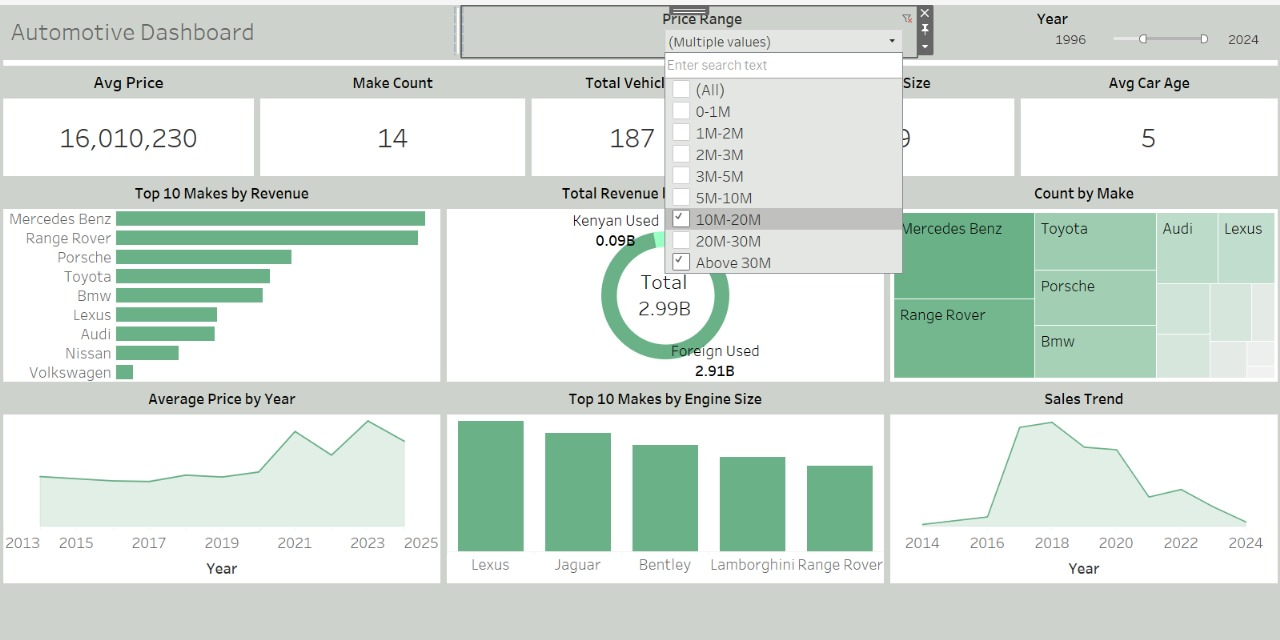

The dashboard page shown, as its layout file describes it:
{"tool":"tableau","page":{"name":"Dashboard","canvas":[1600,800],"ordinal":0},"visuals":[{"type":"text","box":[0,0,567.5,65]},{"type":"blank","box":[567.5,0,10,65]},{"type":"filter","title":"Top 10 Makes by Revenue","param":"[federated.19sfm5003uep7b13yt24r1xoxb0n].[none:Price_Range:nk]","box":[577.5,0,567.5,65]},{"type":"filter","title":"Top 10 Makes by Revenue","param":"[federated.19sfm5003uep7b13yt24r1xoxb0n].[none:Year:qk]","box":[1145,0,455,65]},{"type":"blank","box":[0,65,1600,15]},{"type":"text","box":[0,80,321,33]},{"type":"text","box":[321,80,339,33]},{"type":"text","box":[660,80,261,33]},{"type":"text","box":[921,80,350,33]},{"type":"text","box":[1271,80,329,33]},{"type":"worksheet","title":"Avg Price","mark":"Automatic","box":[0,113,321,105]},{"type":"worksheet","title":"Makes Count","mark":"Automatic","box":[321,113,339,105]},{"type":"worksheet","title":"Total Vehicles","mark":"Automatic","box":[660,113,261,105]},{"type":"worksheet","title":"Avg Engine Size","mark":"Automatic","box":[921,113,350,105]},{"type":"worksheet","title":"Avg Car Age","mark":"Automatic","box":[1271,113,329,105]},{"type":"text","box":[0,218,554,33]},{"type":"text","box":[554,218,554,33]},{"type":"text","box":[1108,218,492,33]},{"type":"worksheet","title":"Top 10 Makes by Revenue","mark":"Automatic","rows":["Make"],"cols":["Price"],"box":[0,251,554,224]},{"type":"worksheet","title":"Total Revenue by Usage Origin","mark":"Pie","cols":["Calculation_783907814217064450","Calculation_783907814217064450"],"box":[554,251,554,224]},{"type":"worksheet","title":"Count by Make","mark":"Automatic","box":[1108,251,492,224]},{"type":"text","box":[0,475,554,33]},{"type":"text","box":[554,475,554,33]},{"type":"text","box":[1108,475,492,33]},{"type":"worksheet","title":"Average Price by year","mark":"Automatic","rows":["Price"],"cols":["Year","Year"],"box":[0,508,554,215]},{"type":"worksheet","title":"Top 10 Makes by Avg Engine Size","mark":"Automatic","rows":["Engine_Size"],"cols":["Make"],"box":[554,508,554,215]},{"type":"worksheet","title":"Sales Trend","mark":"Automatic","rows":["Name"],"cols":["Year","Year"],"box":[1108,508,492,215]}]}

Visuals, with their boxes in screenshot pixels (x1, y1, x2, y2), scaled from the page's 1600x800 canvas onto the 1280x640 screenshot:
text: <box>0,0,454,52</box>
blank: <box>454,0,462,52</box>
"Top 10 Makes by Revenue" filter: <box>462,0,916,52</box>
"Top 10 Makes by Revenue" filter: <box>916,0,1279,52</box>
blank: <box>0,52,1279,64</box>
text: <box>0,64,257,90</box>
text: <box>257,64,528,90</box>
text: <box>528,64,737,90</box>
text: <box>737,64,1017,90</box>
text: <box>1017,64,1279,90</box>
"Avg Price" worksheet: <box>0,90,257,174</box>
"Makes Count" worksheet: <box>257,90,528,174</box>
"Total Vehicles" worksheet: <box>528,90,737,174</box>
"Avg Engine Size" worksheet: <box>737,90,1017,174</box>
"Avg Car Age" worksheet: <box>1017,90,1279,174</box>
text: <box>0,174,443,201</box>
text: <box>443,174,886,201</box>
text: <box>886,174,1279,201</box>
"Top 10 Makes by Revenue" worksheet: <box>0,201,443,380</box>
"Total Revenue by Usage Origin" worksheet (Pie marks): <box>443,201,886,380</box>
"Count by Make" worksheet: <box>886,201,1279,380</box>
text: <box>0,380,443,406</box>
text: <box>443,380,886,406</box>
text: <box>886,380,1279,406</box>
"Average Price by year" worksheet: <box>0,406,443,578</box>
"Top 10 Makes by Avg Engine Size" worksheet: <box>443,406,886,578</box>
"Sales Trend" worksheet: <box>886,406,1279,578</box>
